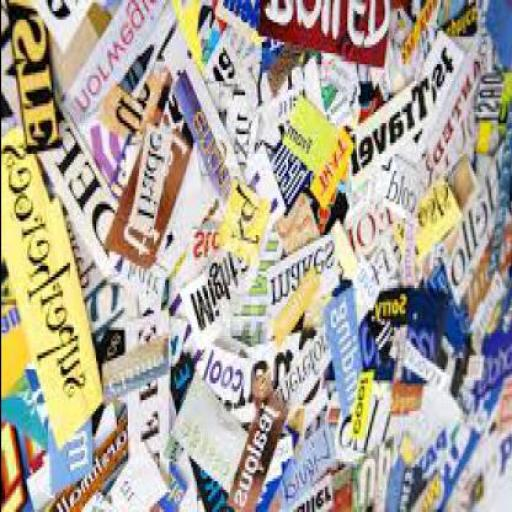paper: (0, 2, 511, 512), (2, 134, 103, 453), (48, 120, 176, 342), (28, 2, 168, 120), (246, 64, 328, 230), (108, 101, 184, 274), (2, 381, 95, 509), (167, 67, 239, 219), (389, 36, 469, 170), (173, 372, 252, 500), (257, 3, 393, 76), (41, 436, 172, 510), (439, 154, 501, 308), (362, 291, 474, 375), (2, 3, 63, 157), (344, 89, 436, 185), (177, 246, 260, 350), (418, 48, 482, 176), (129, 313, 173, 489), (263, 235, 335, 339), (383, 431, 475, 511), (262, 330, 332, 431), (389, 378, 487, 448), (236, 391, 290, 511), (452, 332, 510, 438), (458, 218, 511, 331), (95, 342, 171, 414), (205, 87, 264, 179), (194, 16, 259, 98), (322, 299, 365, 420), (451, 424, 510, 512), (217, 185, 274, 268), (277, 109, 341, 181), (387, 3, 438, 92), (302, 453, 374, 511), (203, 341, 257, 417), (374, 156, 425, 226), (343, 204, 394, 271), (318, 134, 356, 216), (467, 275, 510, 347), (352, 386, 391, 462), (216, 3, 266, 59), (438, 3, 484, 47), (474, 80, 511, 133), (492, 132, 511, 215), (480, 120, 508, 170), (468, 36, 497, 78), (354, 462, 378, 509)
